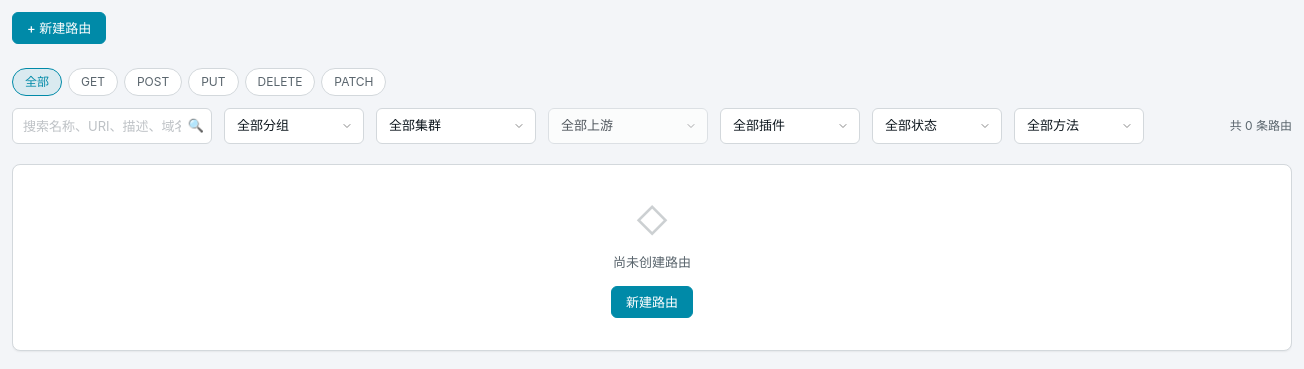
Test: RouteList.vue 空态双形态与清空筛选（batch1 7.2） › 有筛选空态：显示「没有符合条件路由」+ 清空筛选按钮
Select "已发布" in the 5th dropdown at (937, 126), box [872, 108, 1002, 144]
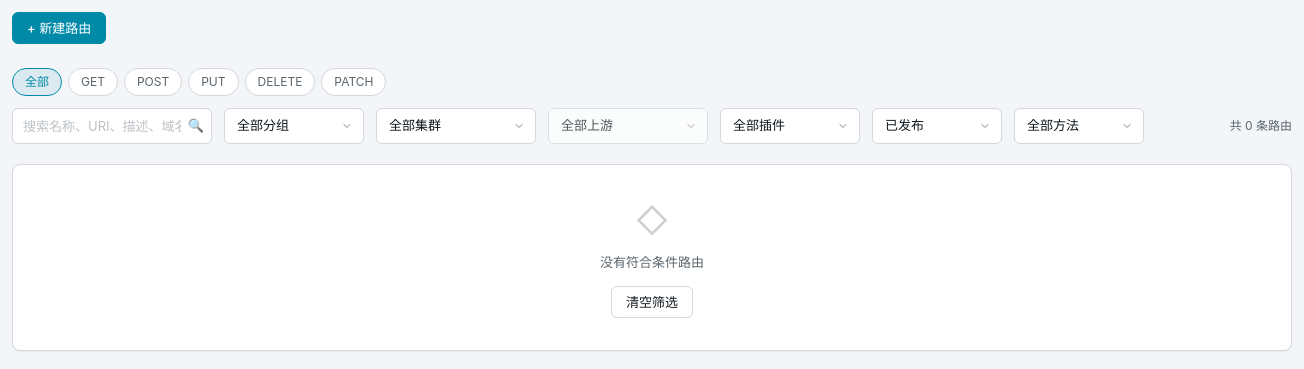
Check: the button "清空筛选" is shown, box [611, 286, 693, 318]
Check: the text "没有符合条件路由" is shown, box [600, 253, 704, 273]
Check: the text "尚未创建路由" is gone
